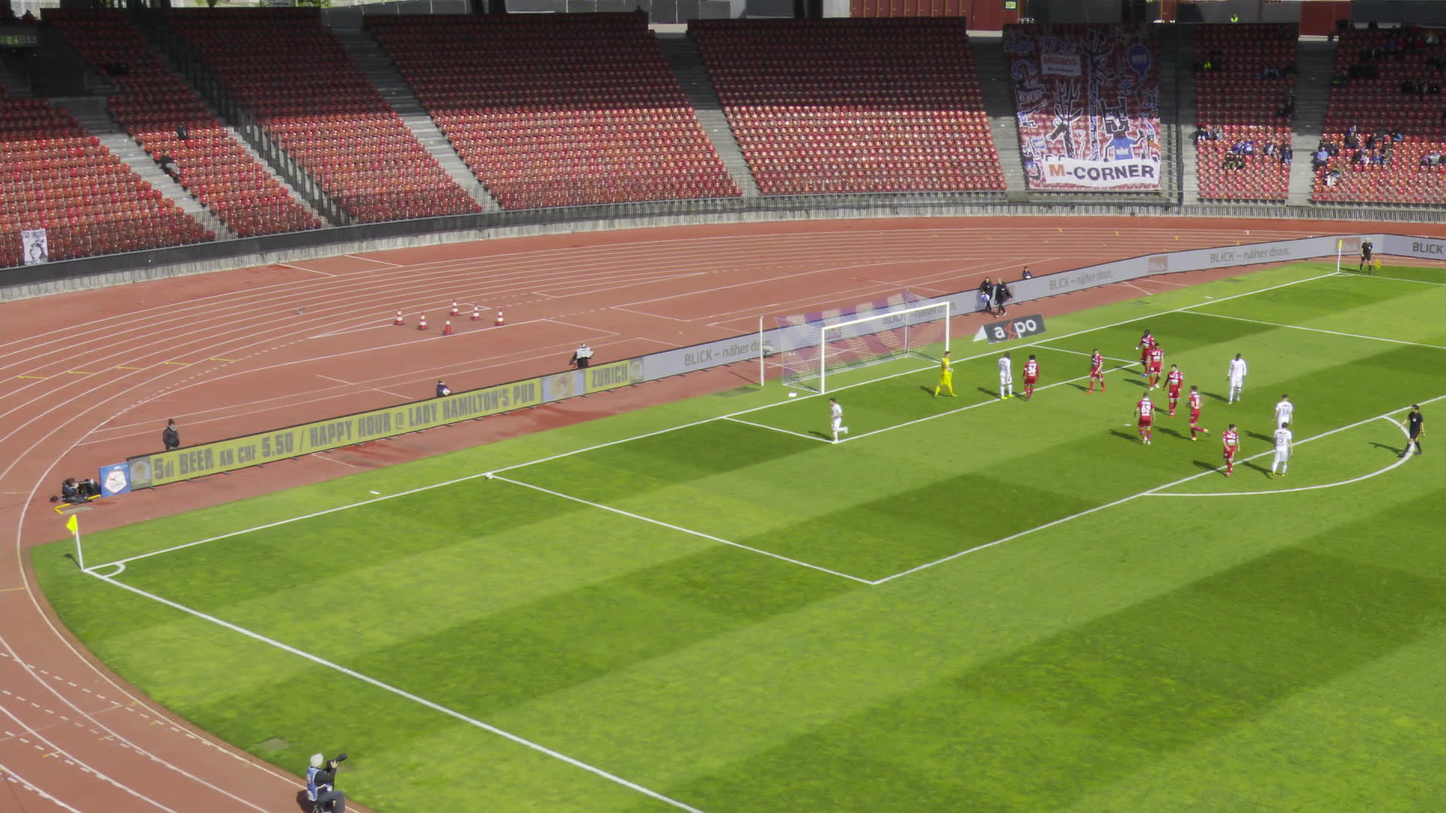ball: (484, 471, 493, 478)
player: (1185, 384, 1213, 440), (1270, 422, 1291, 480), (1133, 390, 1155, 445), (932, 350, 957, 398), (828, 396, 853, 442), (1162, 363, 1183, 417), (1221, 422, 1240, 477), (1227, 352, 1247, 403), (1133, 328, 1154, 376), (1084, 349, 1106, 394), (1020, 355, 1041, 402), (996, 351, 1012, 399), (1274, 393, 1294, 431), (1147, 343, 1163, 389)
referee: (1401, 400, 1425, 456), (1357, 236, 1374, 273)
